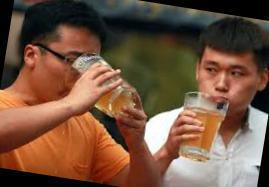Drunk: (201, 48, 256, 110)
